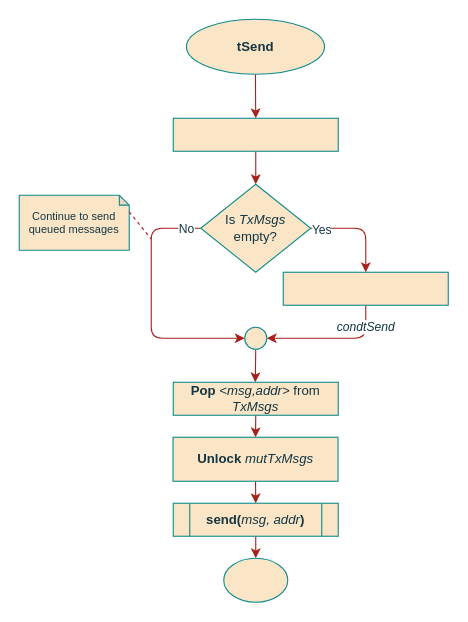
The diagram is 468 pixels wide and 622 high, and some of its shapes have lost their labels. Each missing label, with the box of its shape:
End: (223, 557, 288, 602)
Lock mutTxMsgs: (172, 117, 338, 151)
Wait for condtSend: (282, 271, 448, 305)
